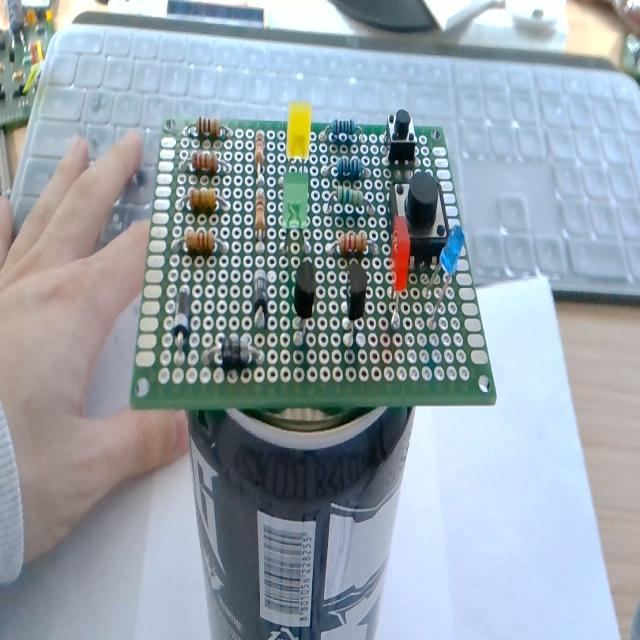diode: (159, 271, 197, 357), (200, 337, 268, 372), (247, 268, 271, 342)
led: (425, 225, 465, 326), (279, 178, 321, 252), (389, 213, 411, 343), (286, 102, 316, 175)
resistor: (171, 228, 234, 262), (322, 187, 377, 221), (182, 115, 236, 144), (320, 115, 370, 146), (174, 149, 233, 175), (324, 153, 370, 184), (324, 230, 378, 254), (175, 189, 239, 208), (253, 185, 267, 250), (252, 128, 268, 177)
switch: (392, 162, 458, 260), (384, 107, 422, 160)
transistor: (289, 262, 320, 345), (344, 258, 369, 346)
